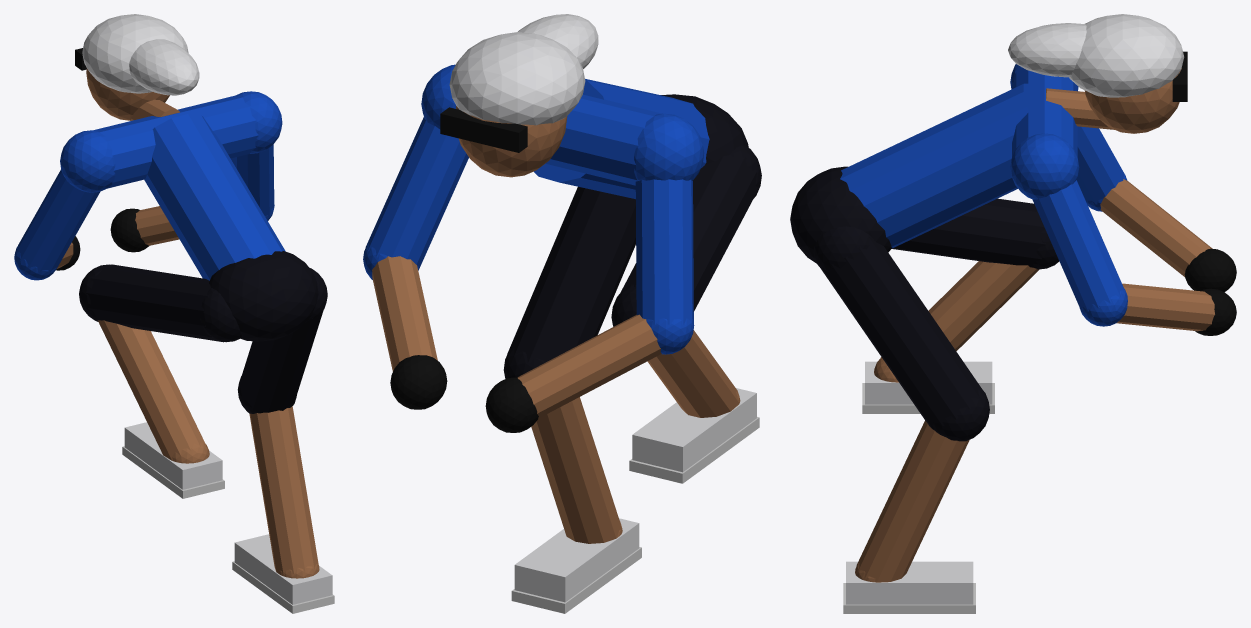
File: rider-3.glb
The picture shows the model from 3 angles, left to right: view 1: azimuth 30°, elevation 25°; view 2: azimuth 150°, elevation 25°; view 3: azimuth 270°, elevation 25°; orthographic projection. The views are drawn at different scales.
Parts seen in each view (by area): view 1: rider_legs, rider_torso, rider_head, rider_arms; view 2: rider_legs, rider_arms, rider_head, rider_torso; view 3: rider_legs, rider_torso, rider_arms, rider_head.
Boxes of the visible parts, bbox=[...] form: rider_legs: bbox=[79, 264, 334, 613]; rider_torso: bbox=[60, 91, 318, 341]; rider_head: bbox=[75, 14, 199, 120]; rider_arms: bbox=[14, 144, 274, 280]; rider_legs: bbox=[503, 145, 761, 613]; rider_arms: bbox=[363, 117, 694, 432]; rider_head: bbox=[440, 14, 598, 177]; rider_torso: bbox=[421, 64, 748, 199]; rider_legs: bbox=[813, 198, 1059, 613]; rider_torso: bbox=[790, 64, 1079, 263]; rider_arms: bbox=[1032, 126, 1236, 335]; rider_head: bbox=[1008, 14, 1187, 133].
Bounding box in the file's own units: 0.73 × 1.39 × 1.01.
